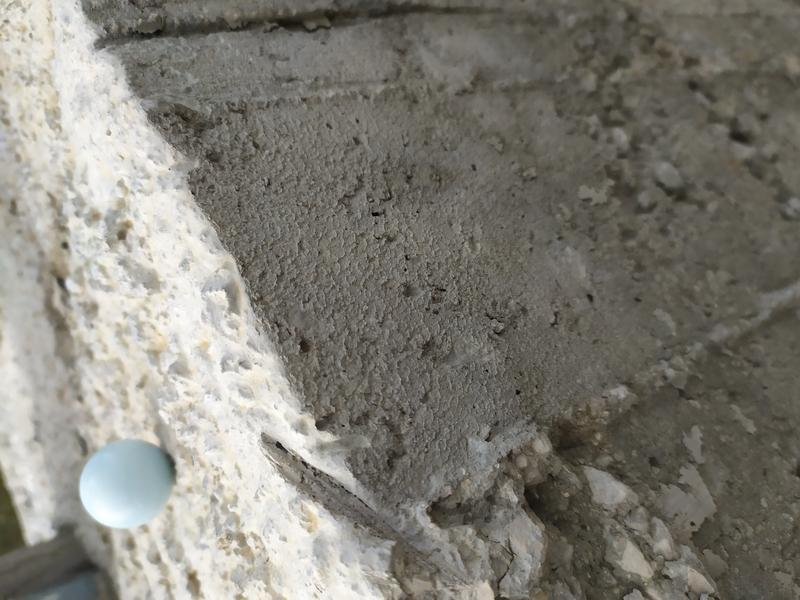Warning: (75, 435, 179, 532)
